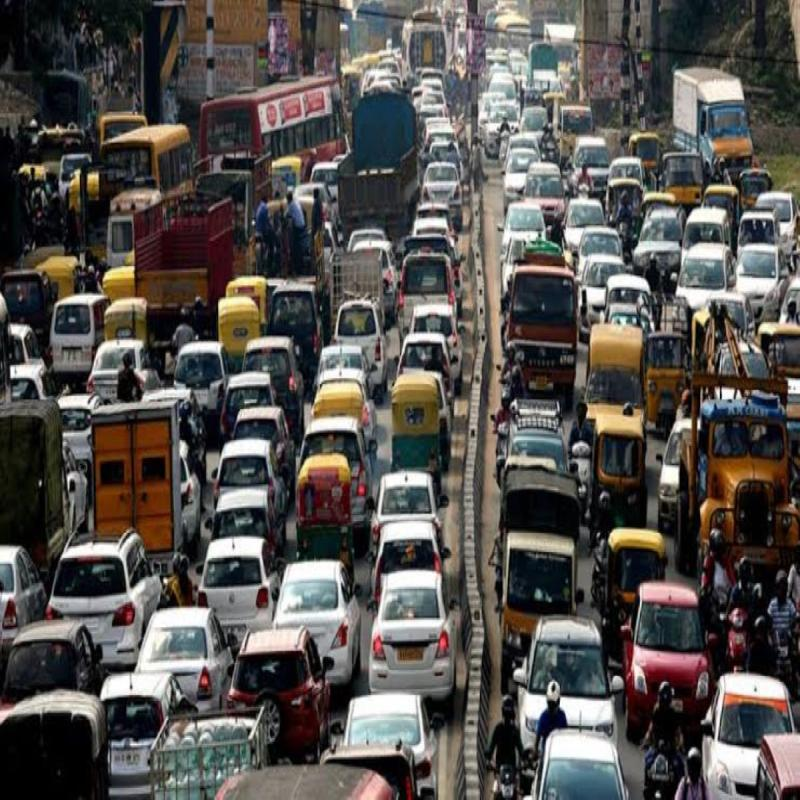auto: (587, 406, 660, 537), (578, 314, 649, 398), (608, 537, 668, 634), (383, 380, 453, 450), (220, 302, 274, 364), (109, 282, 150, 348)
car: (370, 563, 464, 707), (282, 555, 358, 661), (194, 539, 272, 624), (392, 249, 473, 326), (206, 444, 295, 512), (370, 464, 438, 537), (498, 203, 573, 267), (673, 235, 723, 323), (228, 392, 282, 458), (528, 158, 571, 235), (572, 134, 620, 202), (416, 76, 450, 122)
